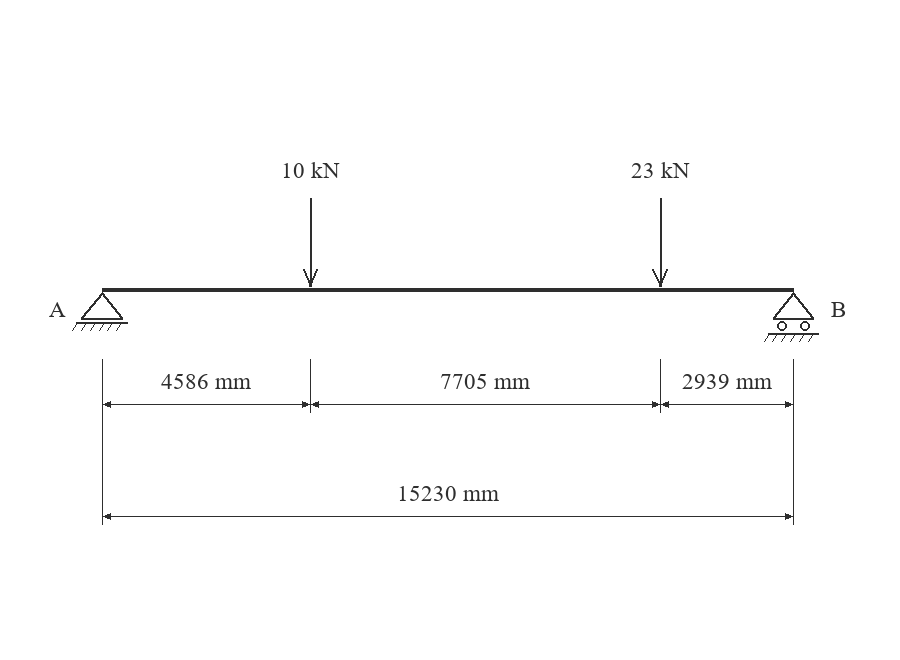pin_support: (72, 292, 128, 331)
point_load: (652, 198, 668, 287), (303, 198, 318, 287)
roller_support: (764, 292, 819, 342)
